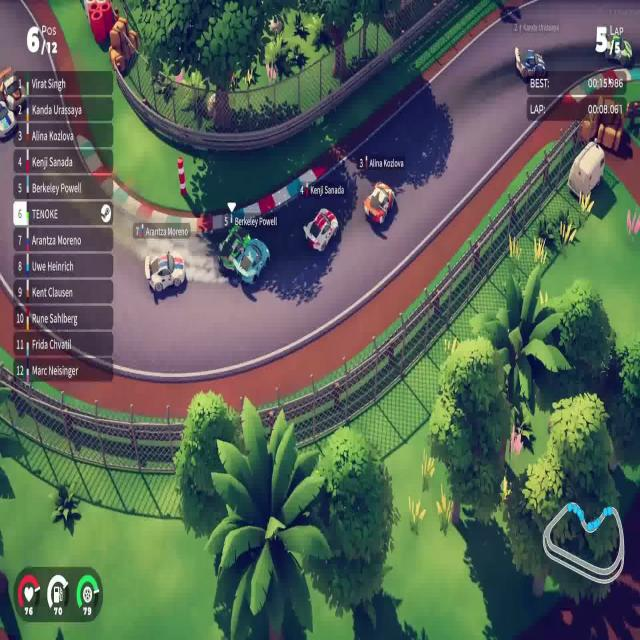car: (144, 250, 186, 295), (302, 206, 339, 253), (236, 238, 270, 286), (215, 225, 252, 268), (362, 180, 394, 227), (514, 45, 546, 82)
